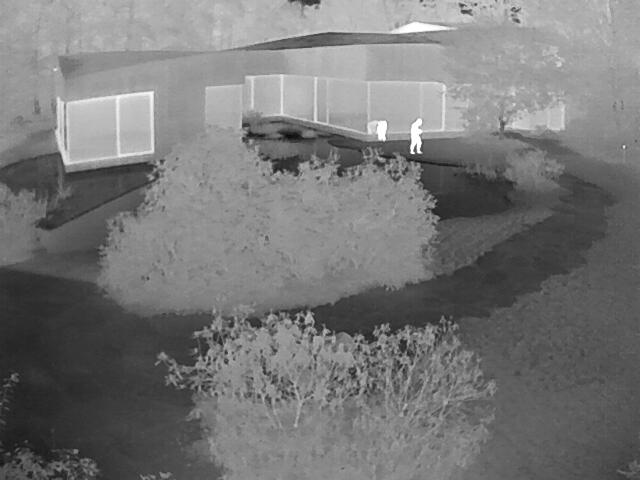person: (409, 116, 421, 153), (374, 120, 387, 140)
